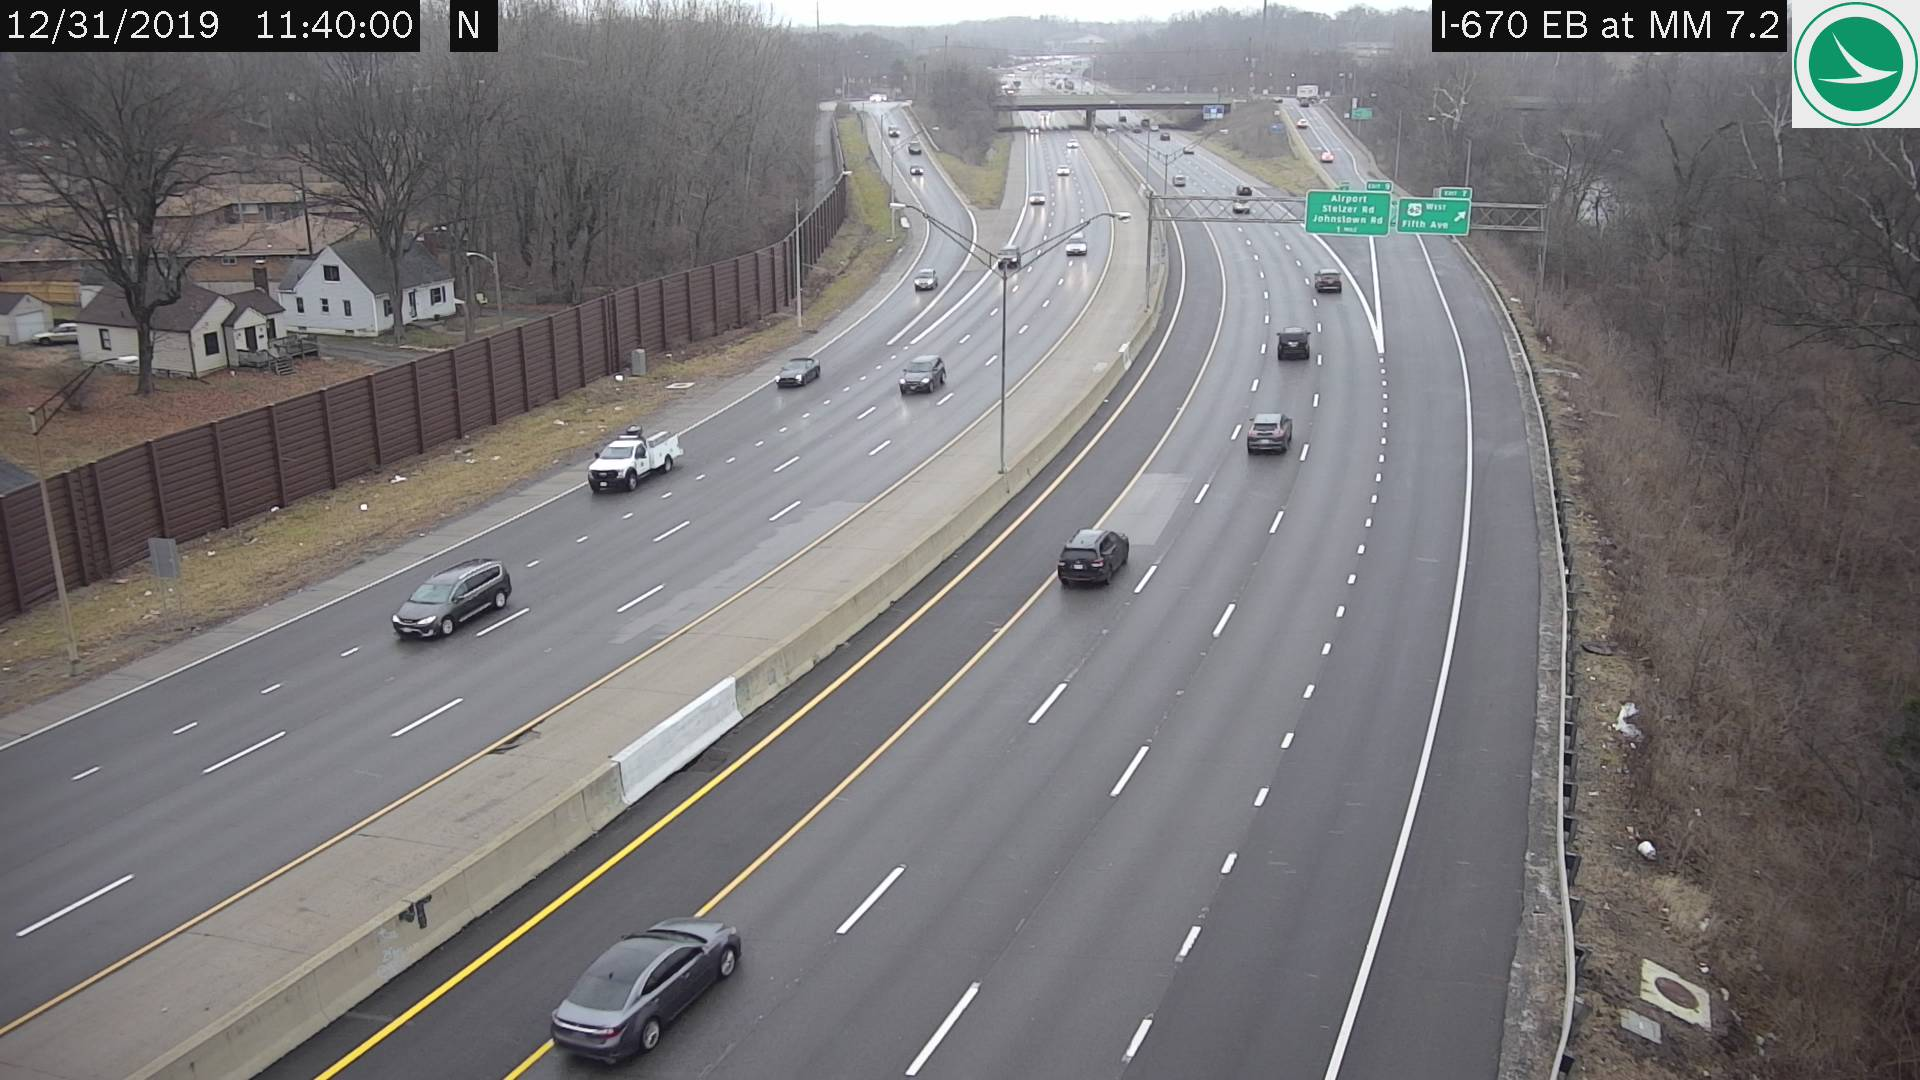car: (550, 916, 738, 1064), (390, 556, 510, 640), (585, 433, 682, 496), (1058, 527, 1130, 588), (1246, 411, 1290, 456), (898, 356, 945, 392), (1274, 324, 1309, 360), (778, 356, 822, 384), (1313, 264, 1342, 291), (913, 266, 936, 290), (996, 247, 1021, 266), (1065, 232, 1088, 252), (1236, 179, 1251, 195), (1029, 190, 1043, 202), (1171, 171, 1183, 185)
